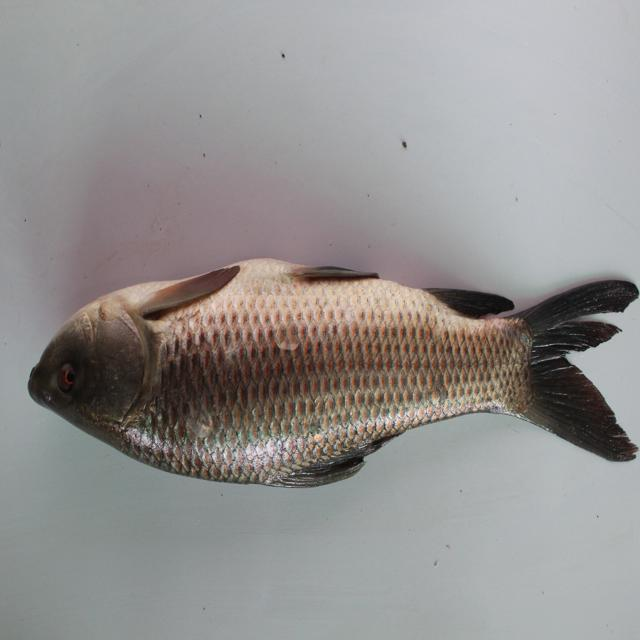Rohu: (17, 227, 626, 508)
